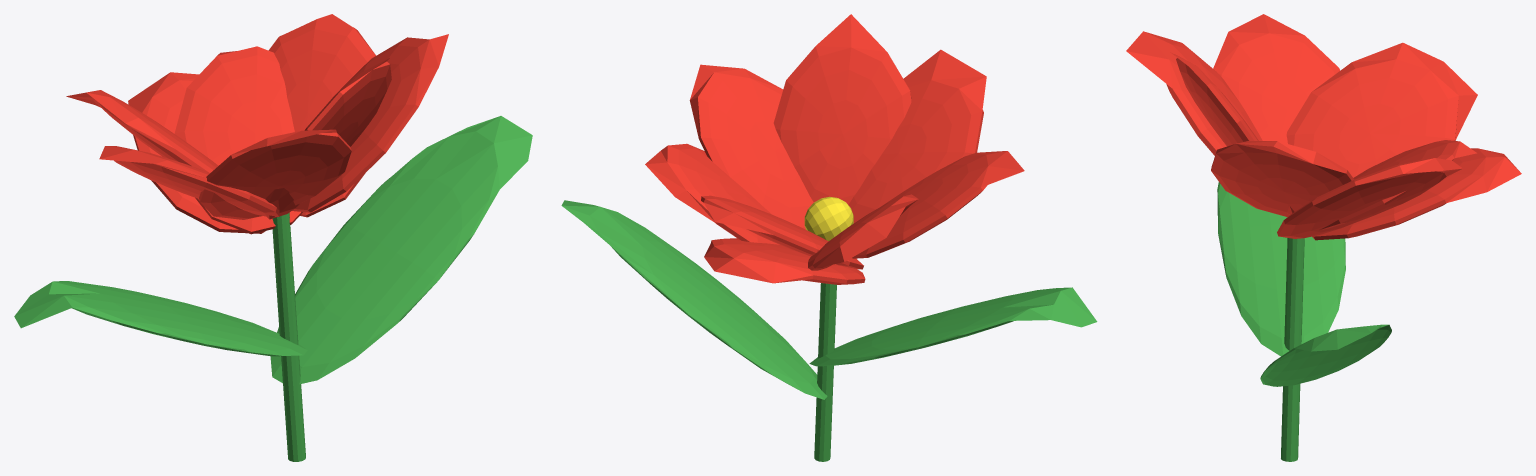
The model's file is Simple_red_flower.glb.
3 renders of one model, left to right at view 1: azimuth 30°, elevation 25°; view 2: azimuth 150°, elevation 25°; view 3: azimuth 270°, elevation 25°, orthographic. The views are drawn at different scales.
Parts seen in each view (by area): view 1: group341342680, group1800673276; view 2: group341342680, group1800673276, group1492198814; view 3: group341342680, group1800673276.
Part boxes in pixels (x1,y1,x2,y2): group341342680: (66,14,448,234); group1800673276: (14,116,532,461); group341342680: (645,14,1024,284); group1800673276: (561,200,1097,461); group1492198814: (804,196,853,241); group341342680: (1126,14,1521,240); group1800673276: (1217,182,1391,461).
Bounding box in the file's own units: 0.7004 × 0.5335 × 0.4537.
